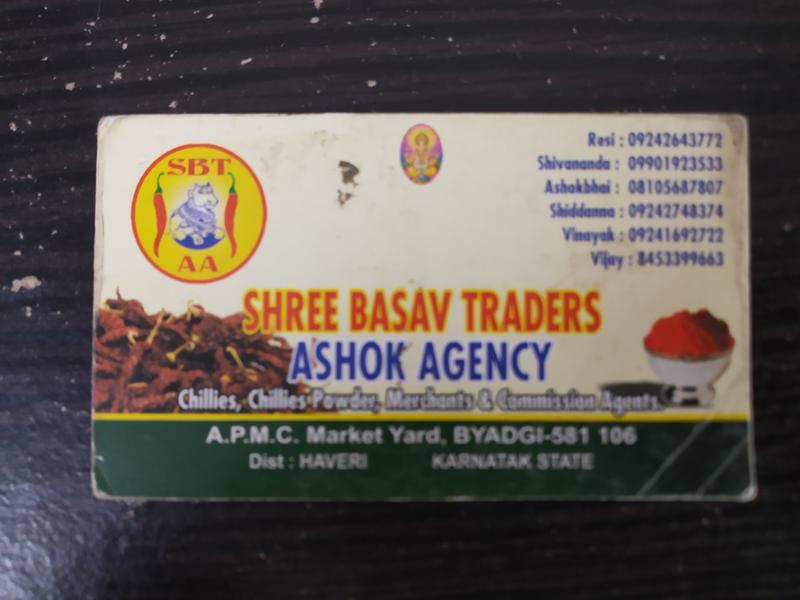card: (90, 111, 759, 501)
